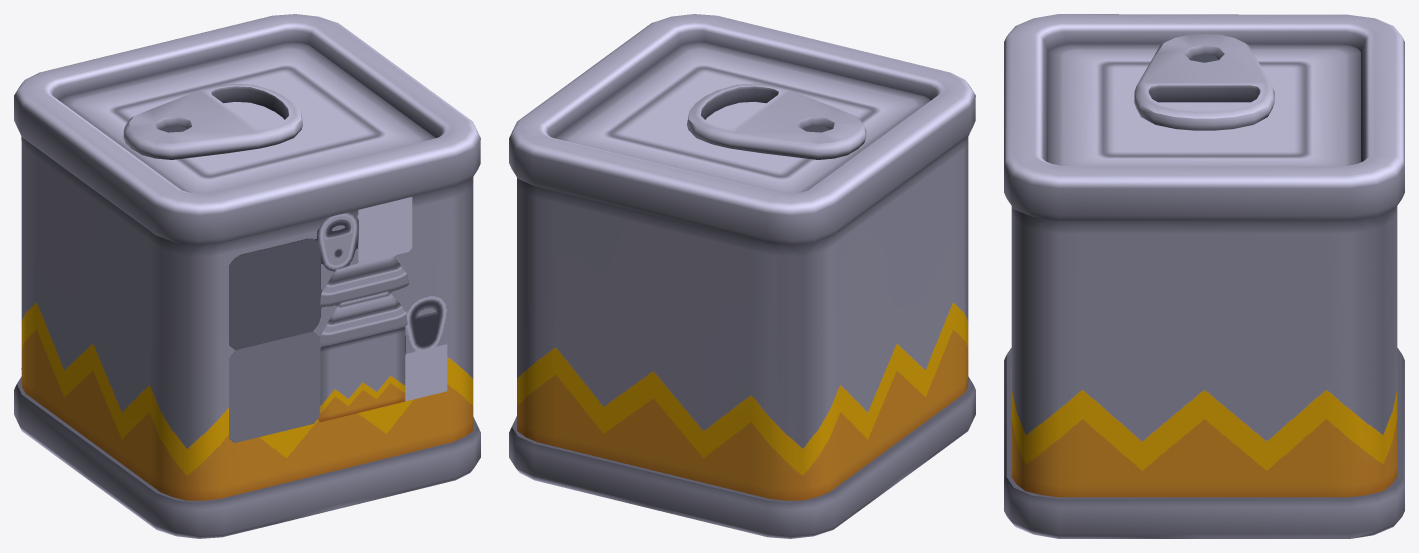
The model's file is Conserv.fbx.
The picture shows the model from 3 angles, left to right: view 1: azimuth 30°, elevation 25°; view 2: azimuth 150°, elevation 25°; view 3: azimuth 270°, elevation 25°; orthographic projection. The views are drawn at different scales.
Parts seen in each view (by area): view 1: mdl_Light_Box_1x1_01_2; view 2: mdl_Light_Box_1x1_01_2; view 3: mdl_Light_Box_1x1_01_2.
Boxes of the visible parts, x1=… form: mdl_Light_Box_1x1_01_2: x1=14, y1=14, x2=480, y2=538; mdl_Light_Box_1x1_01_2: x1=509, y1=14, x2=975, y2=538; mdl_Light_Box_1x1_01_2: x1=1004, y1=14, x2=1404, y2=538.
Size of the model in its own units: 100 by 100 by 100.
Materials: 1 (1 with a texture image).
